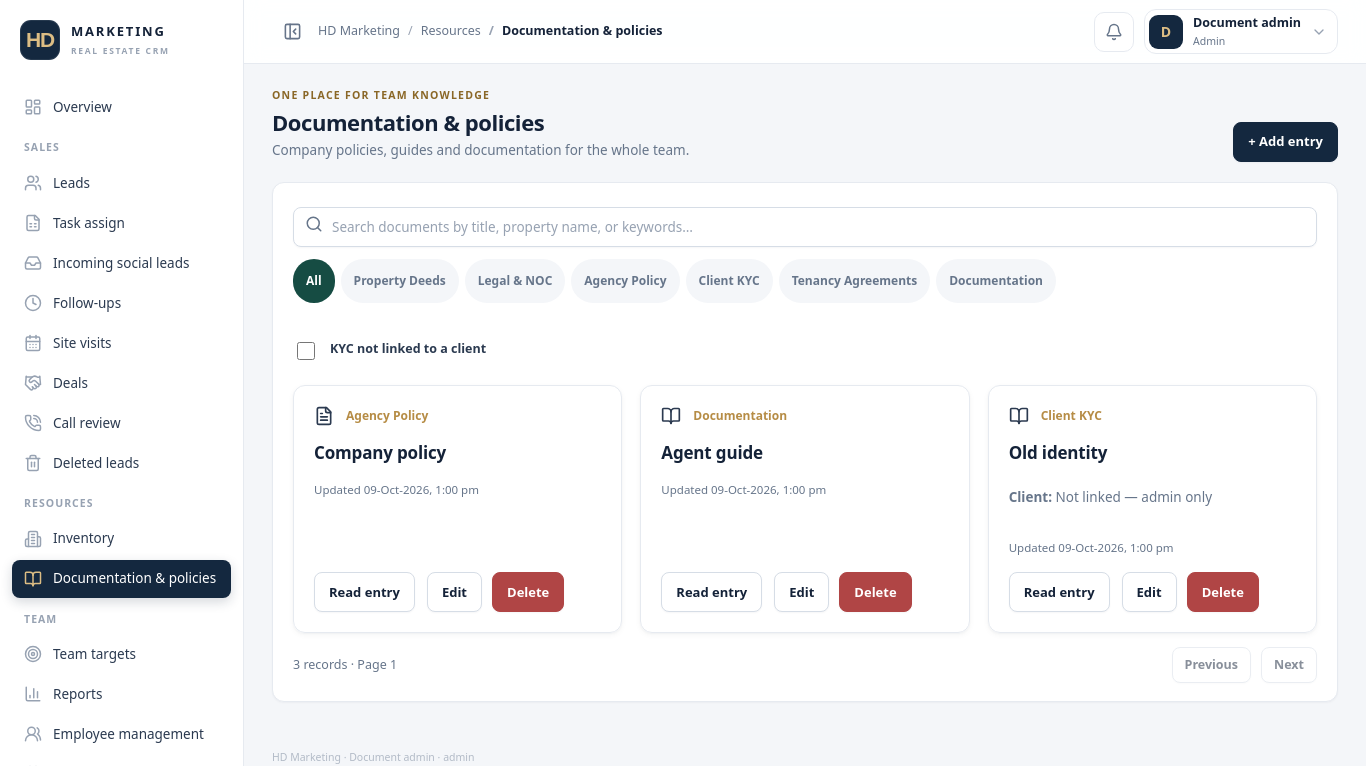
Test: documentation and policies workspace › lets admins find unlinked KYC and hides that filter for agents
Click the checkbox labelled "KYC not linked to a client" at (306, 351), box x1=297 y1=342 x2=315 y2=360
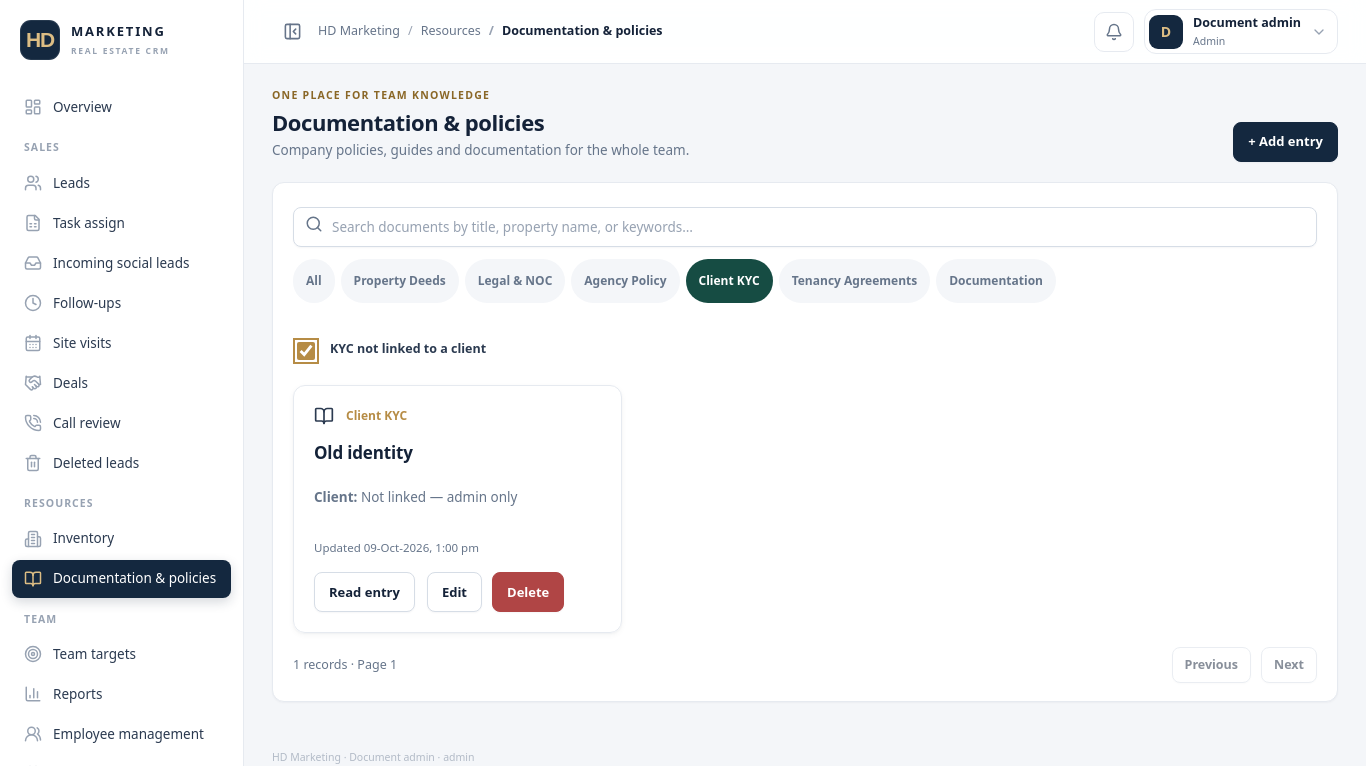
Check: the link "Old identity" is shown, box x1=314 y1=441 x2=413 y2=464
Check: the link "Company policy" is gone
